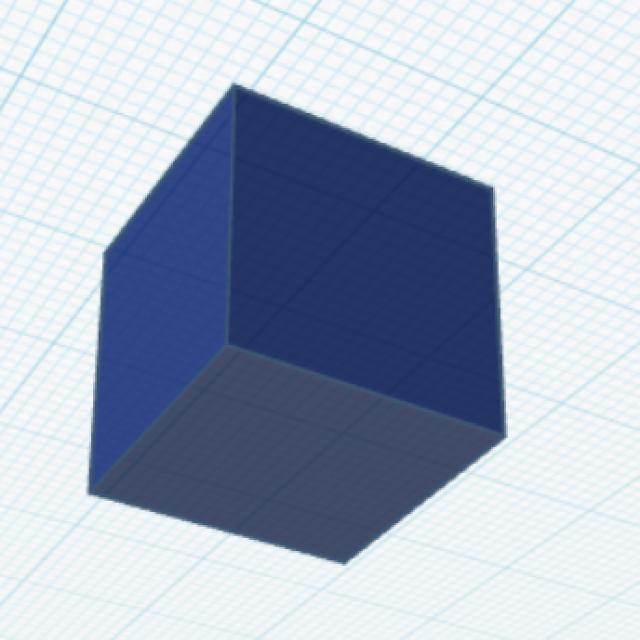cube: (82, 79, 510, 569)
